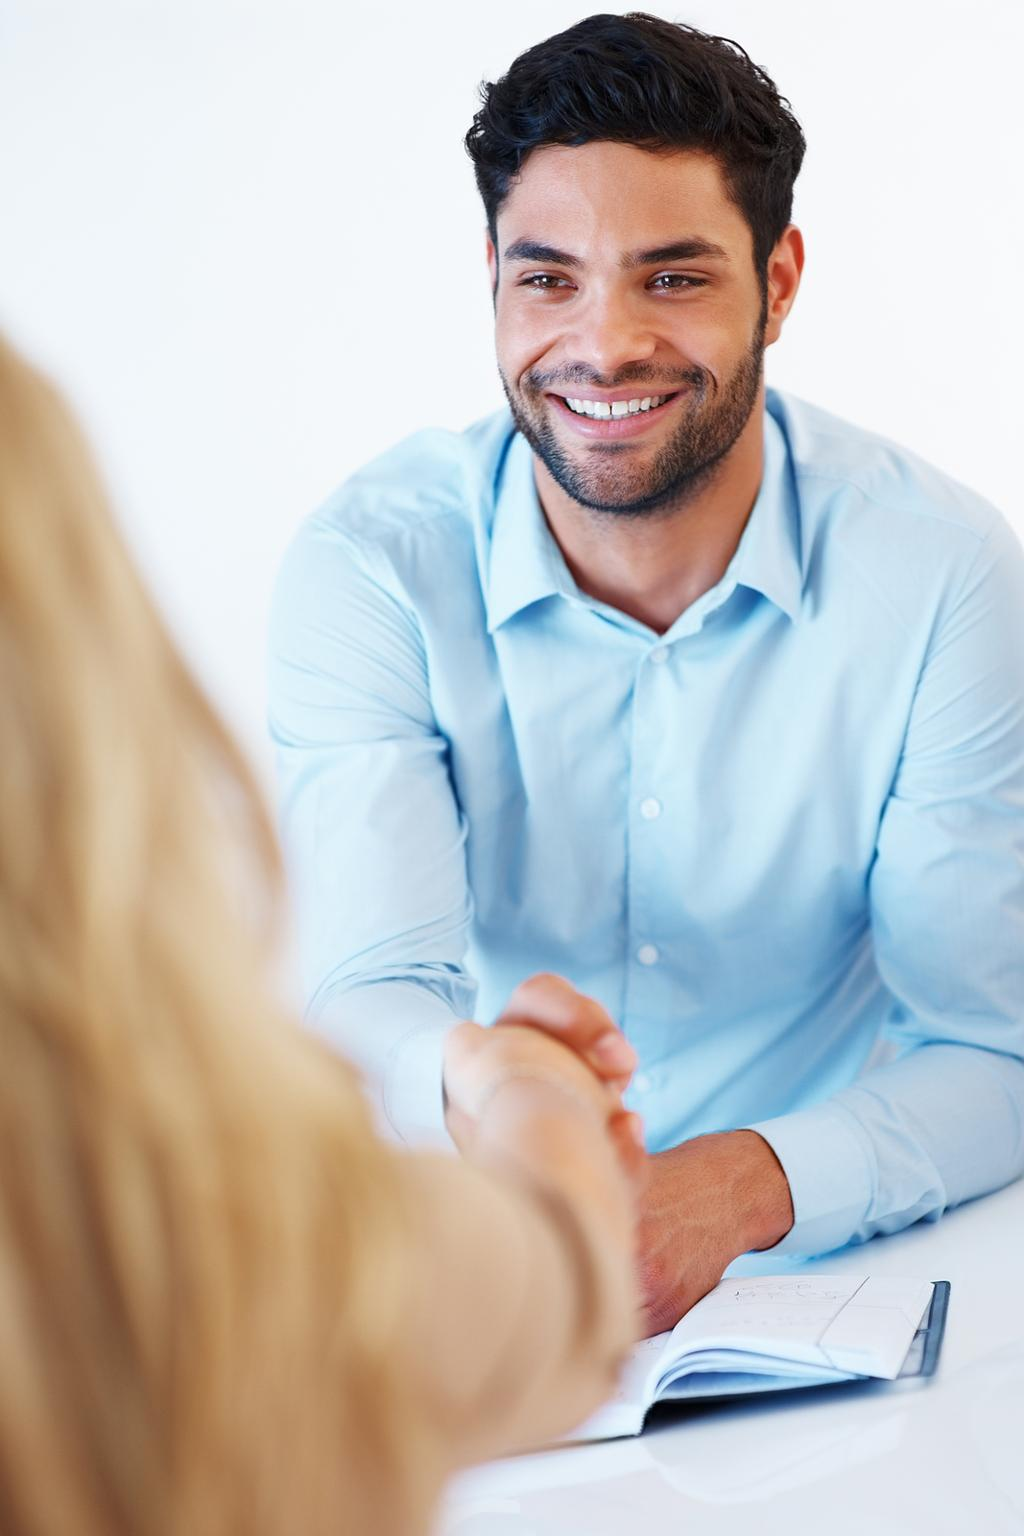face: (498, 138, 768, 516)
